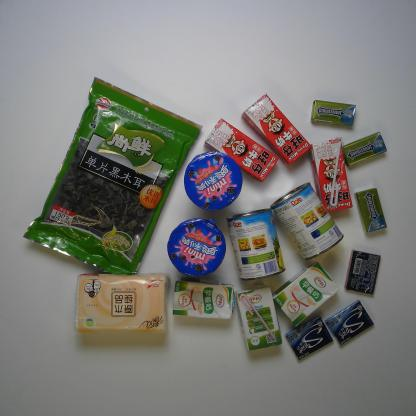Canned Food: (272, 178, 348, 264), (227, 208, 290, 285)
Dessert: (178, 143, 247, 221), (159, 213, 230, 279)
Dried Food: (24, 38, 202, 284)
Gum: (323, 294, 379, 349), (281, 310, 340, 362), (344, 242, 382, 302), (306, 92, 361, 132), (353, 187, 397, 234), (338, 131, 392, 166)
Milk: (238, 92, 315, 164), (203, 115, 279, 186), (167, 276, 252, 326), (268, 267, 341, 324), (310, 136, 357, 214), (236, 278, 282, 356)
Tissue: (63, 267, 184, 339)
